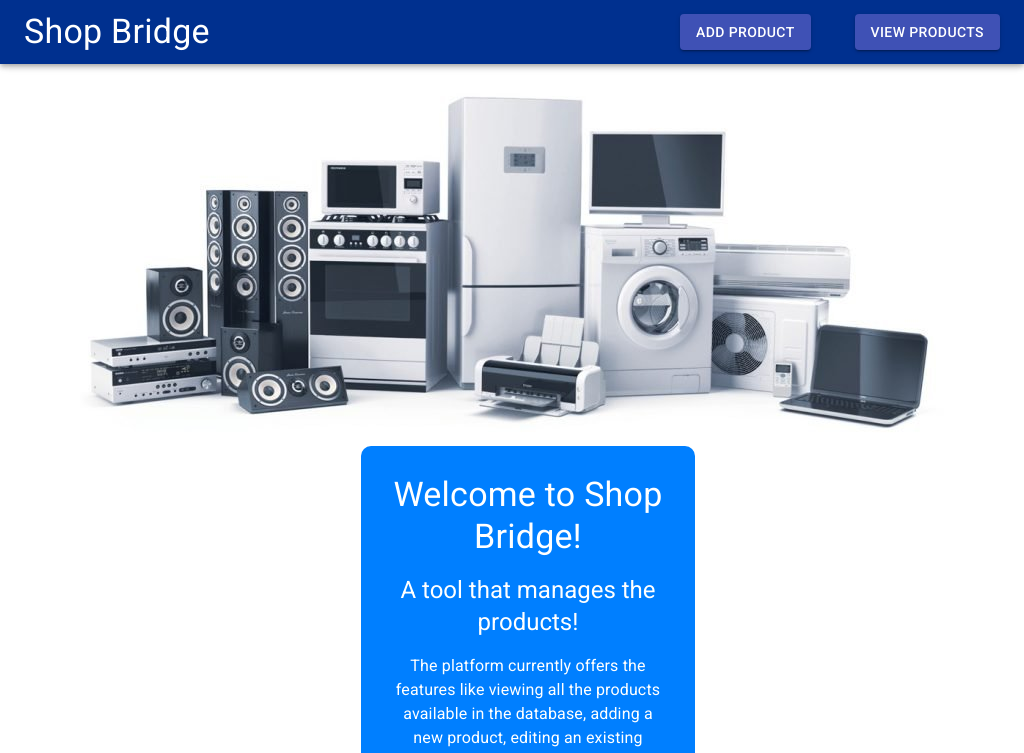
<HomePage /> › routing › takes user to the summary page if logo is clicked from any other page
The width and height of the screenshot is (1024, 753).
# navigate to add product page
Step 1. Click the button "Add Product" → x=745, y=32, box [680,14,811,50]
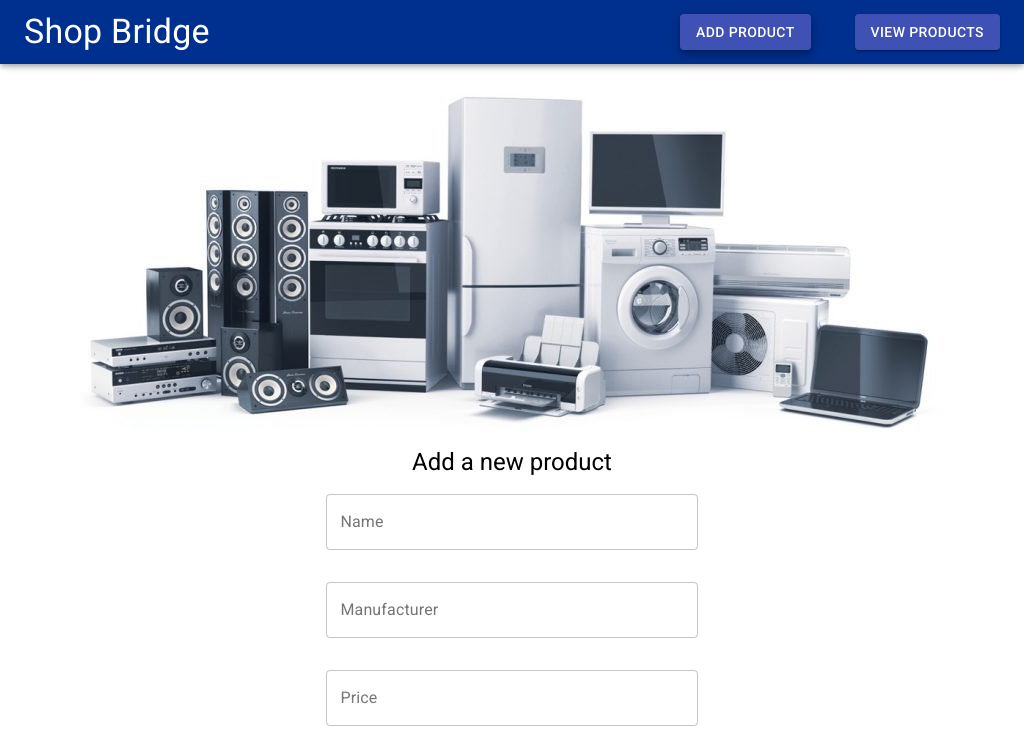
# click the logo at top-left
Step 2. Click the link "Shop Bridge" → x=117, y=32, box [24,11,210,53]
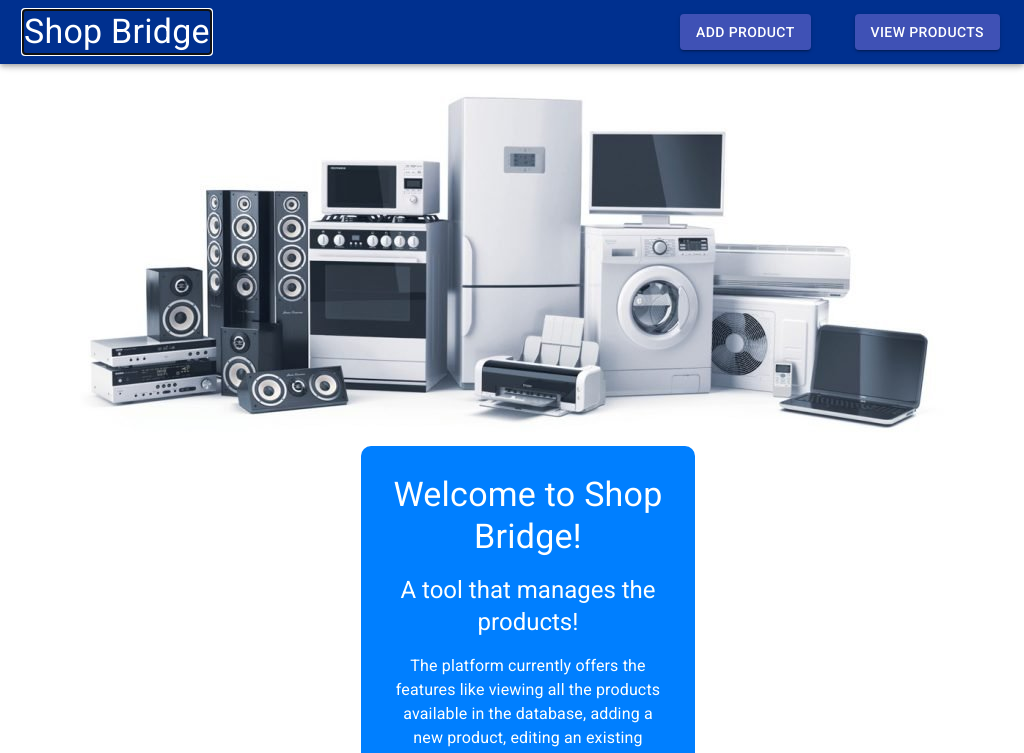
Expected: the heading "Welcome to Shop Bridge!" is shown, [393,474,663,558]
